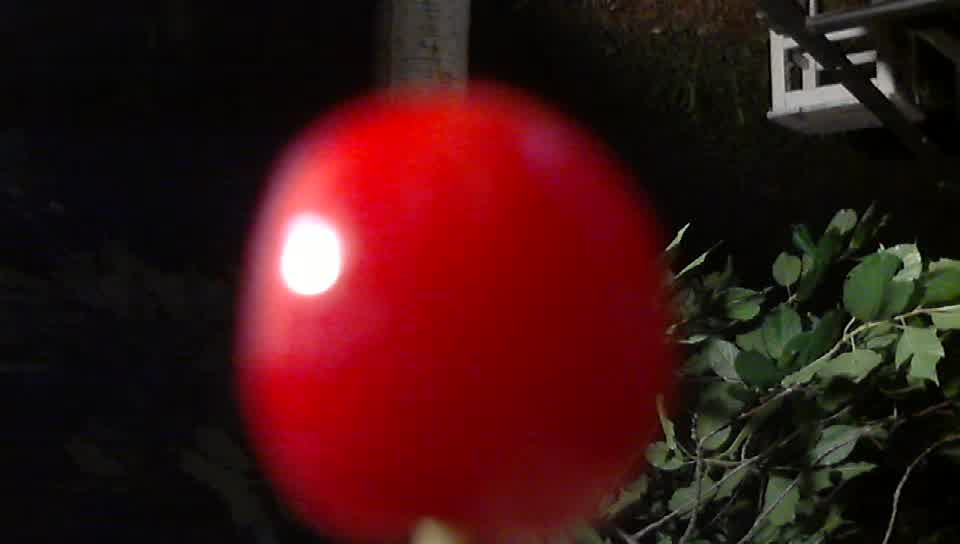Cherry: (216, 52, 708, 544)
